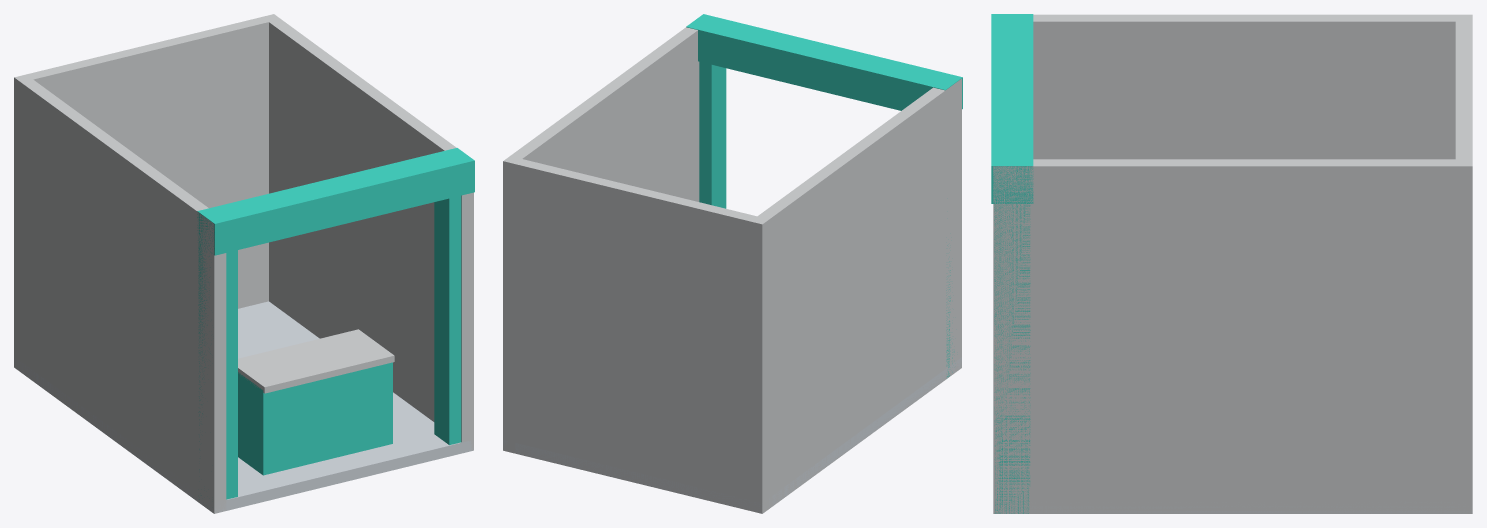
3 views of the same model, side by side, from view 1: azimuth 30°, elevation 25°; view 2: azimuth 150°, elevation 25°; view 3: azimuth 270°, elevation 25° (orthographic). The views are drawn at different scales.
Visible parts, largest first — view 1: Exhibition Booth Concept; view 2: Exhibition Booth Concept; view 3: Exhibition Booth Concept.
Boxes of the visible parts, box(x1,y1,x2,y2) form: Exhibition Booth Concept: box(14, 14, 474, 513); Exhibition Booth Concept: box(503, 14, 962, 513); Exhibition Booth Concept: box(991, 14, 1472, 513).
Size of the model in its own units: 3 by 3.2 by 4.02.
